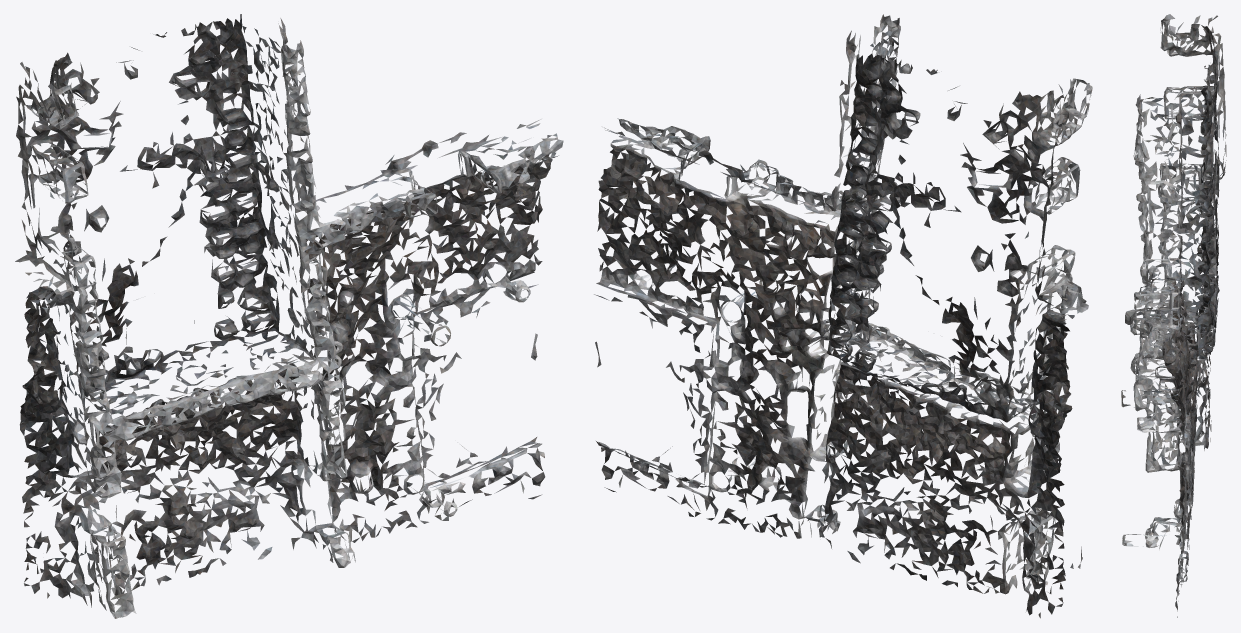
3 renders of one model, left to right at view 1: azimuth 30°, elevation 25°; view 2: azimuth 150°, elevation 25°; view 3: azimuth 270°, elevation 25°, orthographic. The views are drawn at different scales.
Size of the model in its own units: 13.41 by 13.98 by 3.11.
1 material, 1 textured.
